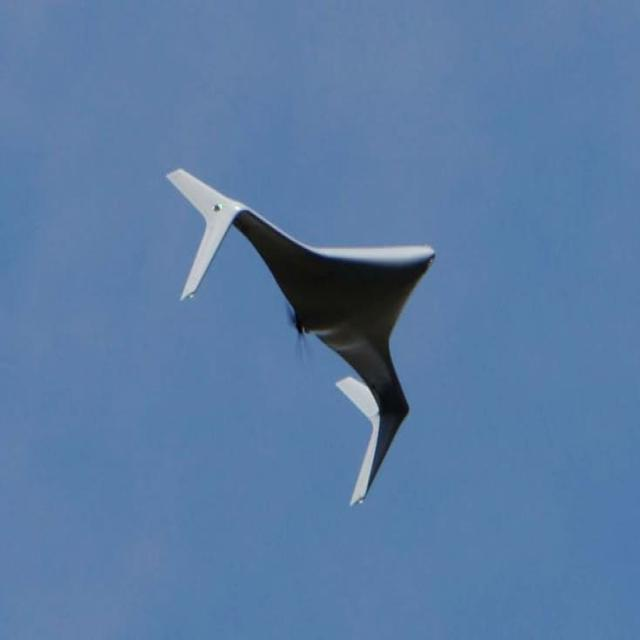iha: (164, 167, 437, 509)
